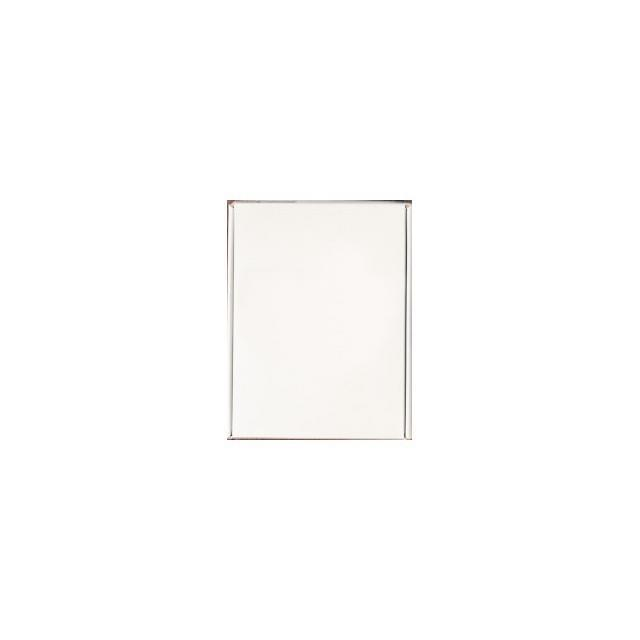box: (225, 198, 409, 434)
